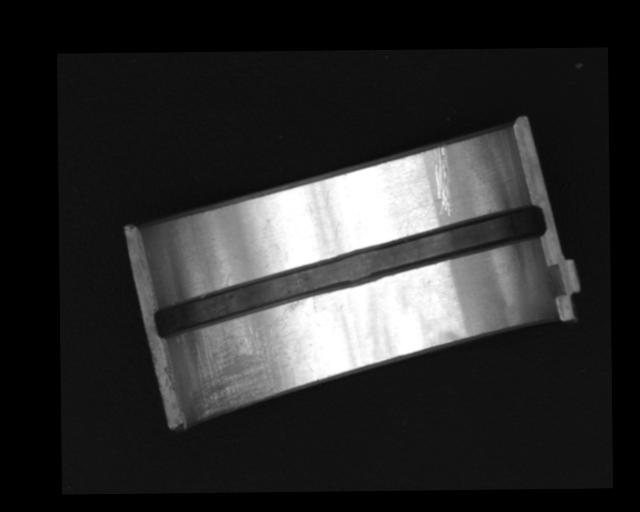gap: (154, 204, 547, 338)
nick: (432, 143, 453, 217)
scratch: (188, 299, 304, 419)
